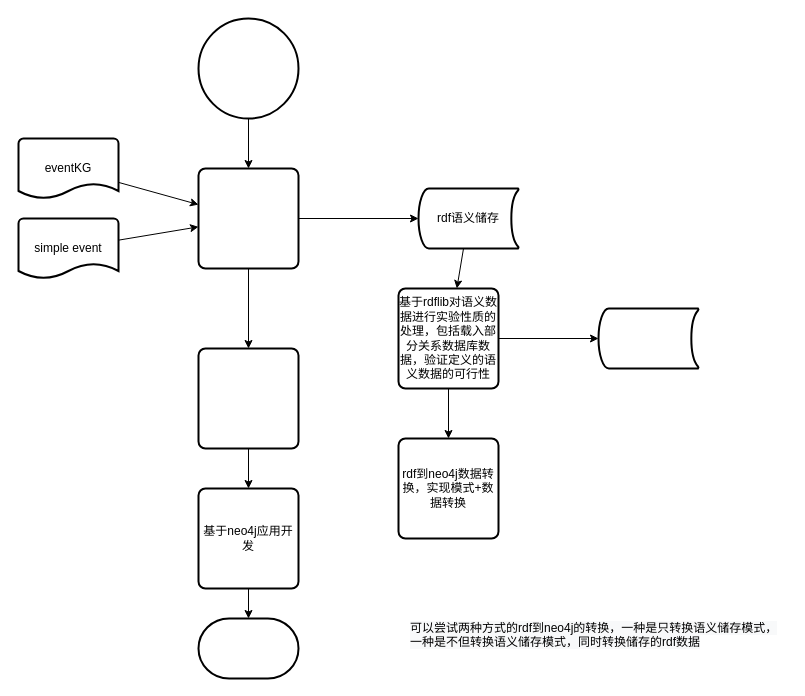
Image size: 805x696. Some labels were removed from this diagram. The shapes that lost their labels are listed below. From the top down, each one's centre as x and y in pixels, then its label:
At (x=248, y=218): "定义社会治理事件schema，基于rdf格式".
At (x=648, y=338): "rdf数据储存".
At (x=248, y=398): "rdf到neo4j数据转换，实现模式转换".
